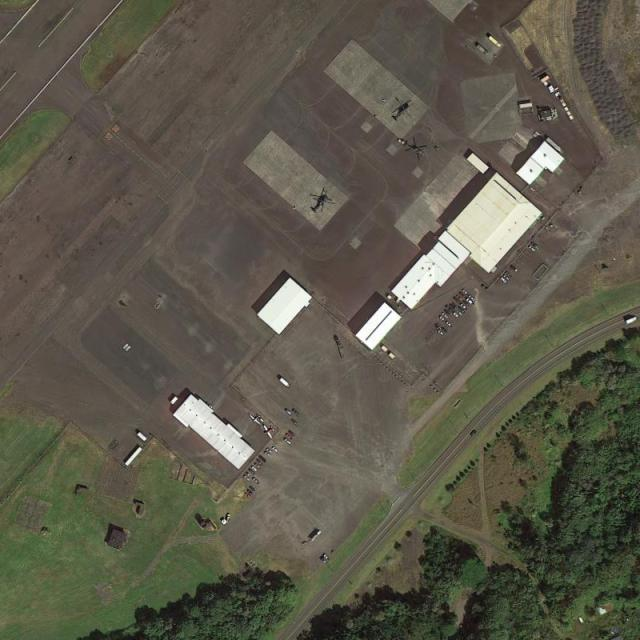vehicle: (488, 35, 502, 48), (476, 44, 489, 57), (278, 374, 290, 387), (455, 308, 463, 317), (626, 318, 637, 324), (285, 438, 293, 446), (253, 477, 260, 485), (244, 474, 251, 482), (286, 408, 294, 415), (439, 314, 446, 322), (510, 265, 518, 272), (272, 446, 279, 453), (455, 295, 462, 302), (453, 313, 460, 320), (446, 321, 453, 328), (502, 274, 510, 280), (267, 448, 274, 454), (260, 455, 266, 462), (250, 486, 256, 493), (292, 418, 298, 425), (442, 312, 448, 319), (446, 306, 452, 313), (530, 245, 536, 252), (501, 276, 507, 283), (466, 299, 473, 305), (461, 303, 467, 310), (265, 451, 271, 457), (252, 466, 258, 472), (246, 471, 252, 477), (462, 289, 468, 295), (532, 242, 538, 248), (506, 272, 512, 278), (441, 326, 447, 332), (438, 329, 444, 335), (290, 430, 295, 437), (287, 434, 294, 439), (226, 514, 230, 522), (247, 490, 254, 494), (246, 493, 251, 498), (258, 460, 262, 466), (468, 297, 474, 301)
